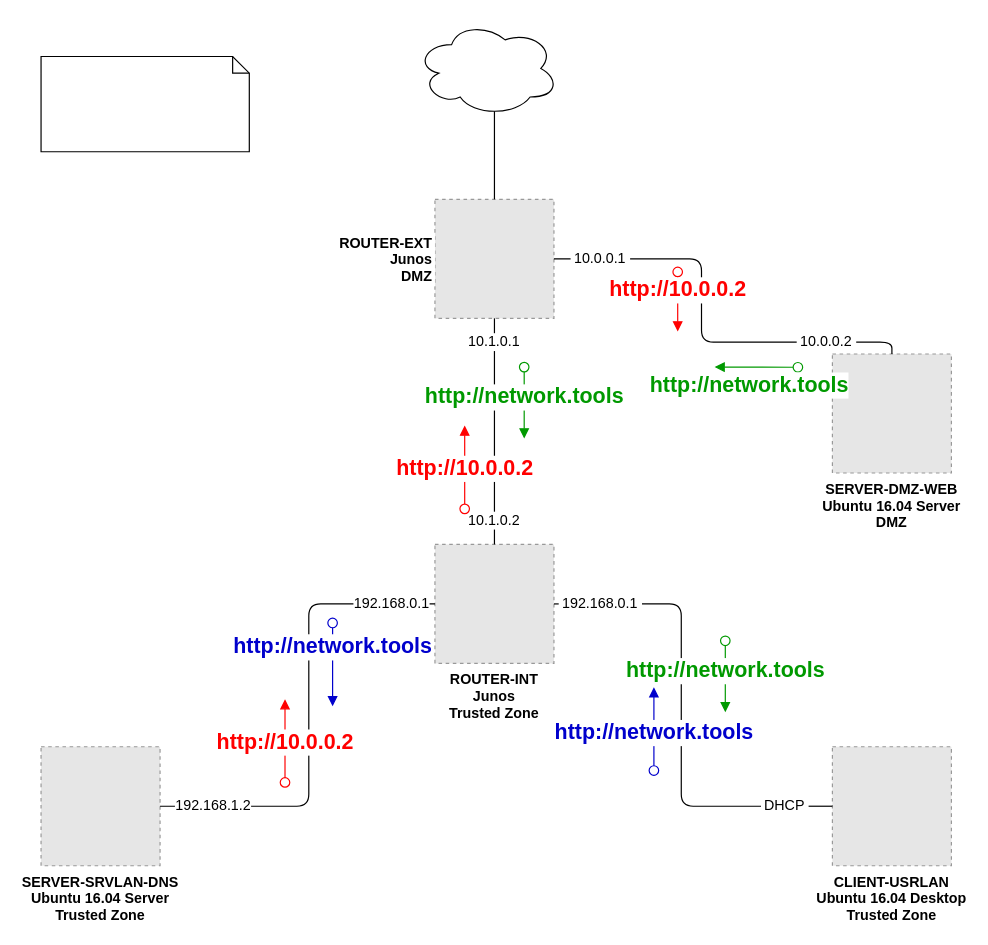
This 988x945 diagram has some shape labels left out. Grey dashed boxes stand in for pictures. Each missing label, with the box of its shape:
HTTP Request Simplification: (40, 55, 249, 152)
INTERNET DHCP: (415, 20, 559, 116)
